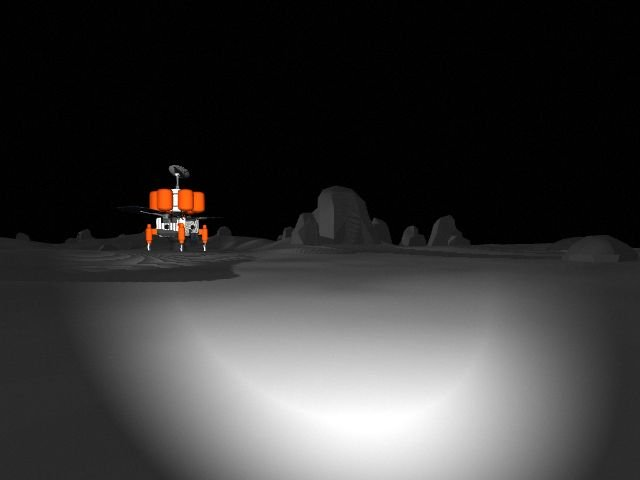homebase: (125, 163, 219, 253)
